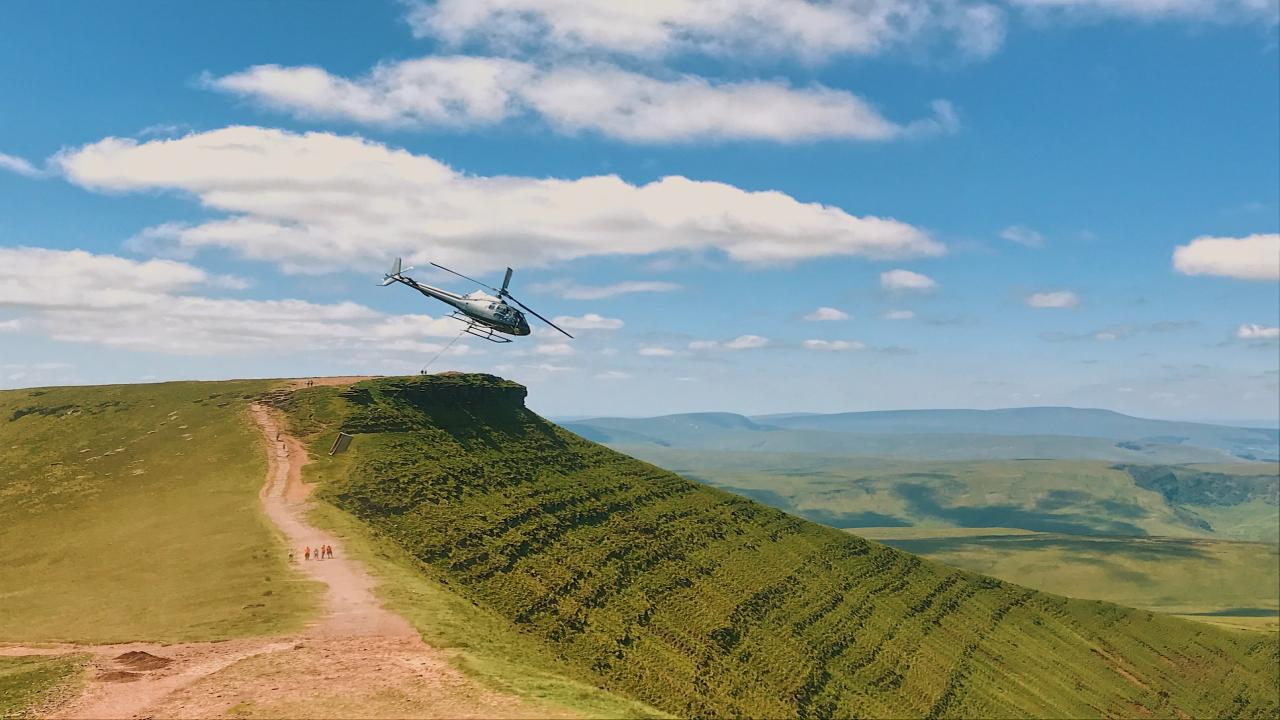Helicopter: (365, 245, 582, 355)
